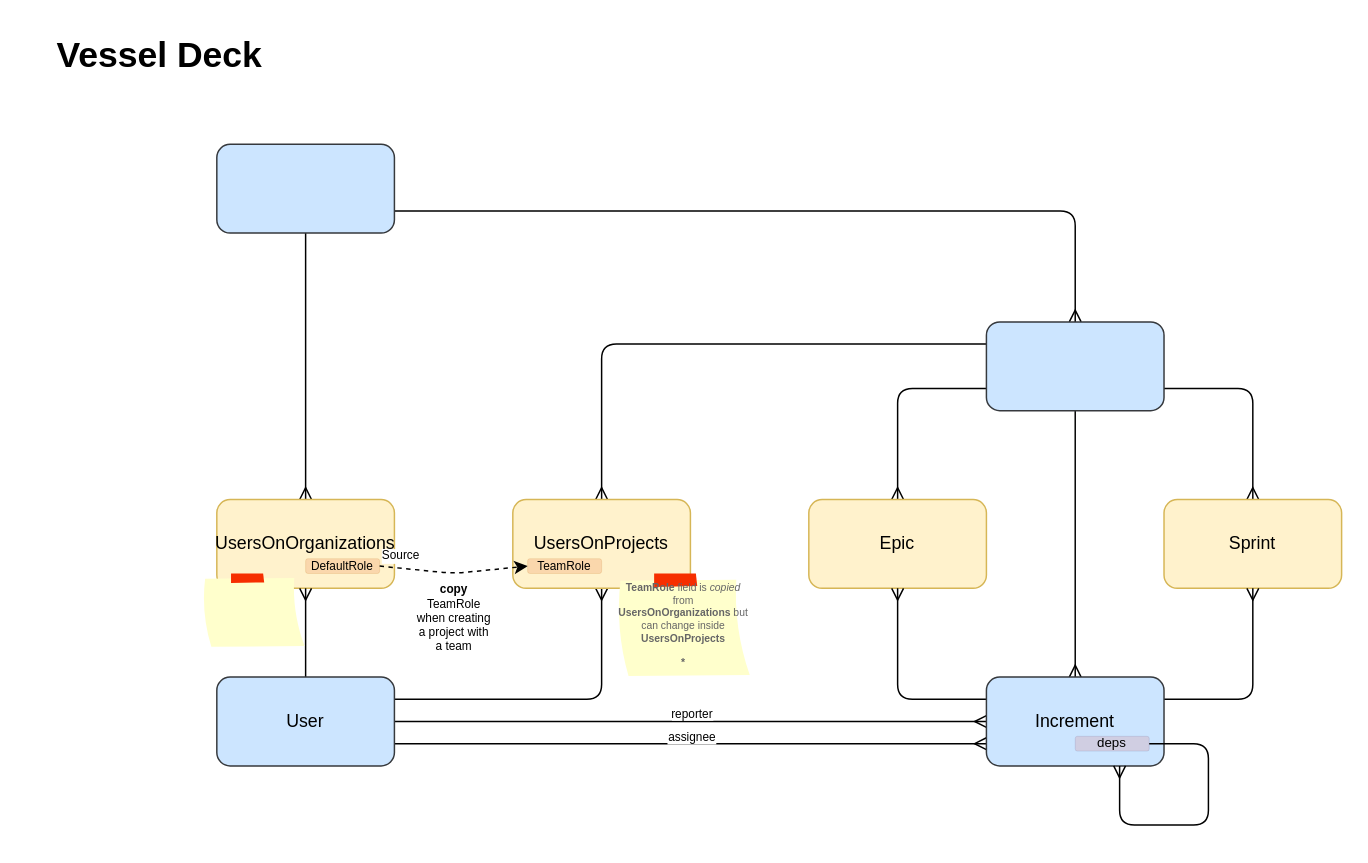
Some shapes in this 1368 by 863 pixel diagram are drawn without their labels. Each missing label, with the centre of its shape:
"A user can have a default Role used when creating a new project" belongs at point (253, 610).
"Organization" belongs at point (304, 188).
"Project" belongs at point (1074, 365).
